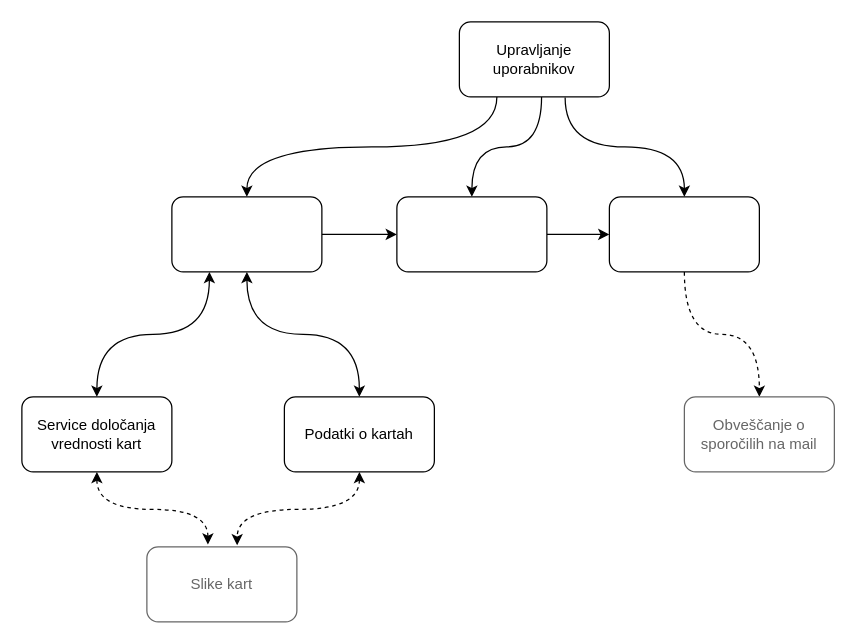
This 856x644 diagram has some shape labels left out. Here are the shapes that lost their labels. From the top down, the centre of each, then its label:
At point 246,234: "Baza uporabnik - karte (imam, želim)".
At point 471,234: "Matching imam - želim".
At point 683,234: "Sporočila".
